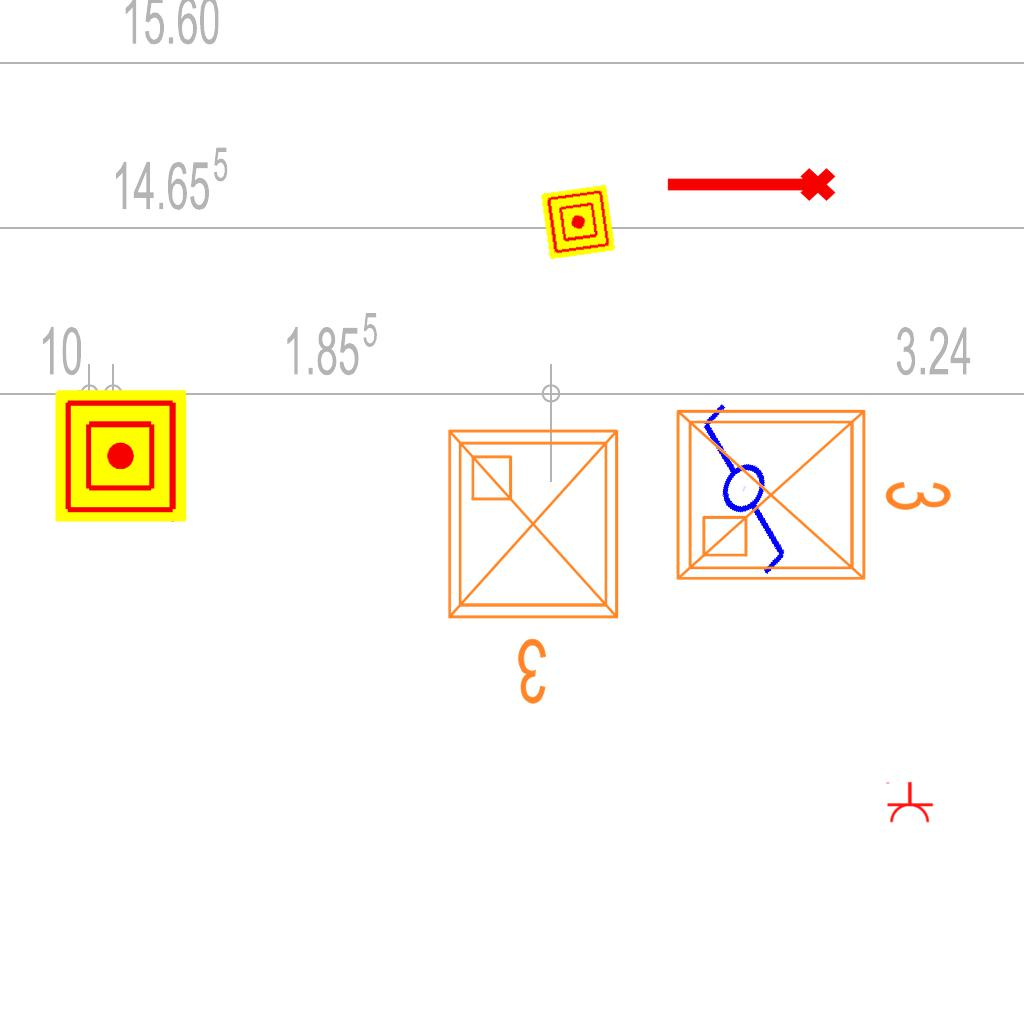ASR_Ansaugoeffnung: (662, 164, 838, 210)
Einbaudownlights_LED_Konferenzraeume: (433, 415, 641, 715), (662, 387, 962, 595)
NAM-Nichtautomatischer_Melder: (55, 390, 187, 522), (540, 184, 616, 260)
Schukosteckdose_einfach: (884, 781, 934, 824)
Wechselschalter: (649, 379, 850, 585)
